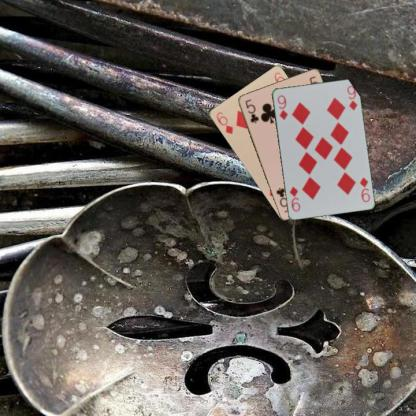5c: (243, 97, 260, 124)
6d: (213, 109, 234, 135)
9d: (274, 92, 289, 121), (357, 174, 371, 204)
